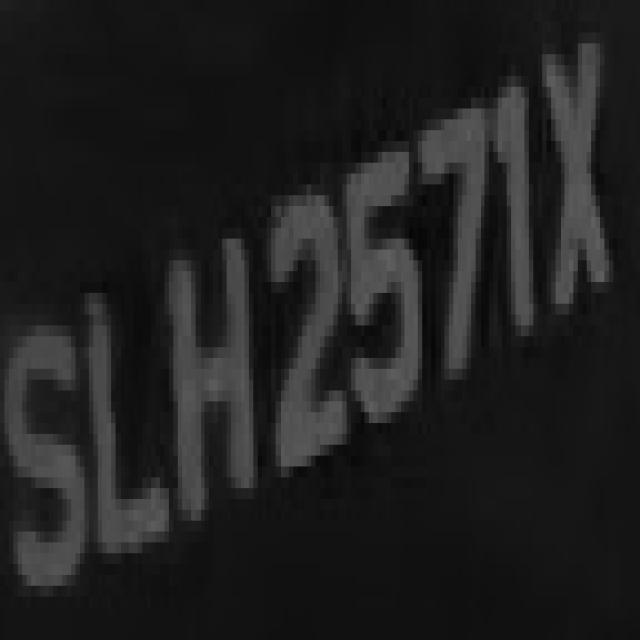1: (489, 43, 542, 369)
2: (253, 162, 351, 520)
5: (329, 119, 427, 434)
7: (409, 87, 498, 412)
H: (169, 185, 258, 542)
L: (71, 260, 178, 586)
S: (4, 293, 89, 640)
X: (547, 32, 622, 390)
